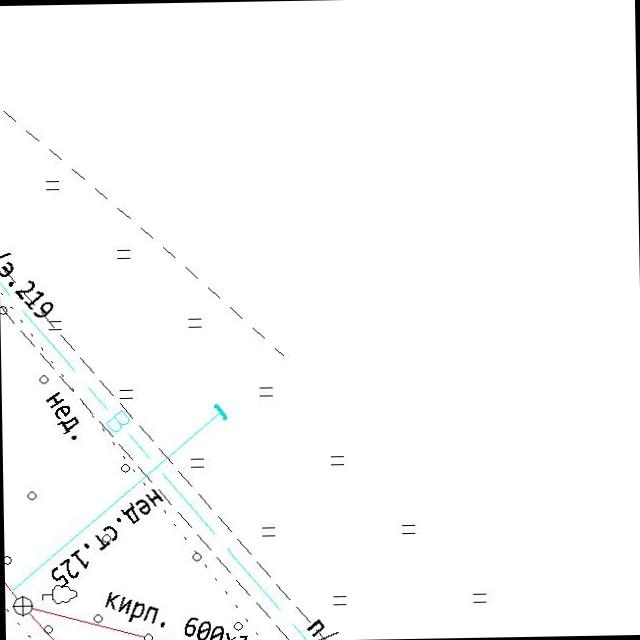tree: (40, 582, 79, 606)
well: (9, 592, 36, 619)
